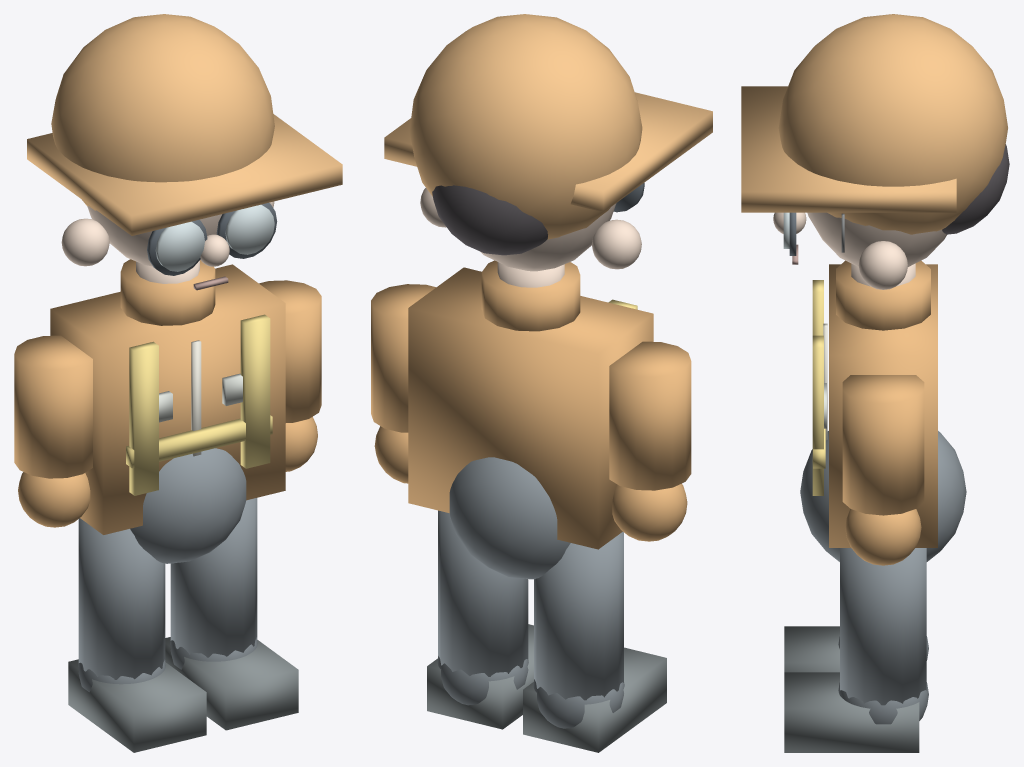
File: mercy_person_27.glb
3 renders of one model, left to right at view 1: azimuth 30°, elevation 25°; view 2: azimuth 150°, elevation 25°; view 3: azimuth 270°, elevation 25°, orthographic. The views are drawn at different scales.
Parts seen in each view (by area): view 1: SkinClothing_10, SkinClothing_0, Arm_Left, Leg_Left, SkinClothing_5, Leg_Right, SkinClothing_1, Boot_Left, Boot_Right, Arm_Right, SkinClothing_2, SkinClothing_7 (+3 smaller); view 2: SkinClothing_0, SkinClothing_10, Arm_Left, Leg_Left, Leg_Right, SkinClothing_1, Arm_Right, Boot_Left, SkinClothing_2, SkinClothing_9, Boot_Right; view 3: SkinClothing_10, SkinClothing_0, Arm_Right, Leg_Right, Boot_Right, SkinClothing_2, SkinClothing_1, SkinClothing_5, Boot_Left, SkinClothing_9.
Part boxes in pixels (left/top/right/bottom): SkinClothing_10: left=27, top=14, right=342, bottom=235; SkinClothing_0: left=50, top=259, right=285, bottom=534; Arm_Left: left=14, top=335, right=92, bottom=527; Leg_Left: left=78, top=518, right=165, bottom=692; SkinClothing_5: left=126, top=314, right=272, bottom=495; Leg_Right: left=170, top=498, right=257, bottom=669; SkinClothing_1: left=130, top=448, right=246, bottom=563; Boot_Left: left=68, top=659, right=206, bottom=752; Boot_Right: left=165, top=637, right=298, bottom=730; Arm_Right: left=259, top=280, right=321, bottom=471; SkinClothing_2: left=61, top=201, right=274, bottom=283; SkinClothing_7: left=155, top=204, right=274, bottom=271; SkinClothing_0: left=408, top=260, right=653, bottom=549; SkinClothing_10: left=384, top=14, right=712, bottom=239; Arm_Left: left=609, top=341, right=691, bottom=541; Leg_Left: left=533, top=532, right=624, bottom=728; Leg_Right: left=437, top=510, right=528, bottom=705; SkinClothing_1: left=449, top=457, right=570, bottom=579; Arm_Right: left=371, top=284, right=435, bottom=483; Boot_Left: left=523, top=647, right=666, bottom=752; SkinClothing_2: left=420, top=188, right=641, bottom=287; SkinClothing_9: left=432, top=185, right=547, bottom=255; Boot_Right: left=427, top=624, right=533, bottom=729; SkinClothing_10: left=741, top=14, right=1007, bottom=234; SkinClothing_0: left=829, top=260, right=937, bottom=547; Arm_Right: left=842, top=375, right=924, bottom=565; Leg_Right: left=838, top=548, right=928, bottom=724; Boot_Right: left=784, top=672, right=919, bottom=752; SkinClothing_2: left=773, top=212, right=946, bottom=289; SkinClothing_1: left=800, top=431, right=966, bottom=561; SkinClothing_5: left=812, top=280, right=825, bottom=495; Boot_Left: left=784, top=626, right=839, bottom=672; SkinClothing_9: left=942, top=144, right=1009, bottom=234.
Bounding box in the file's own units: 1.22 × 2.65 × 0.935.
